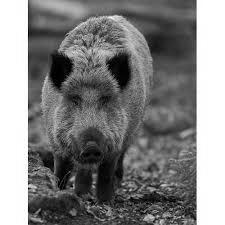wildboar: (40, 12, 158, 206)
